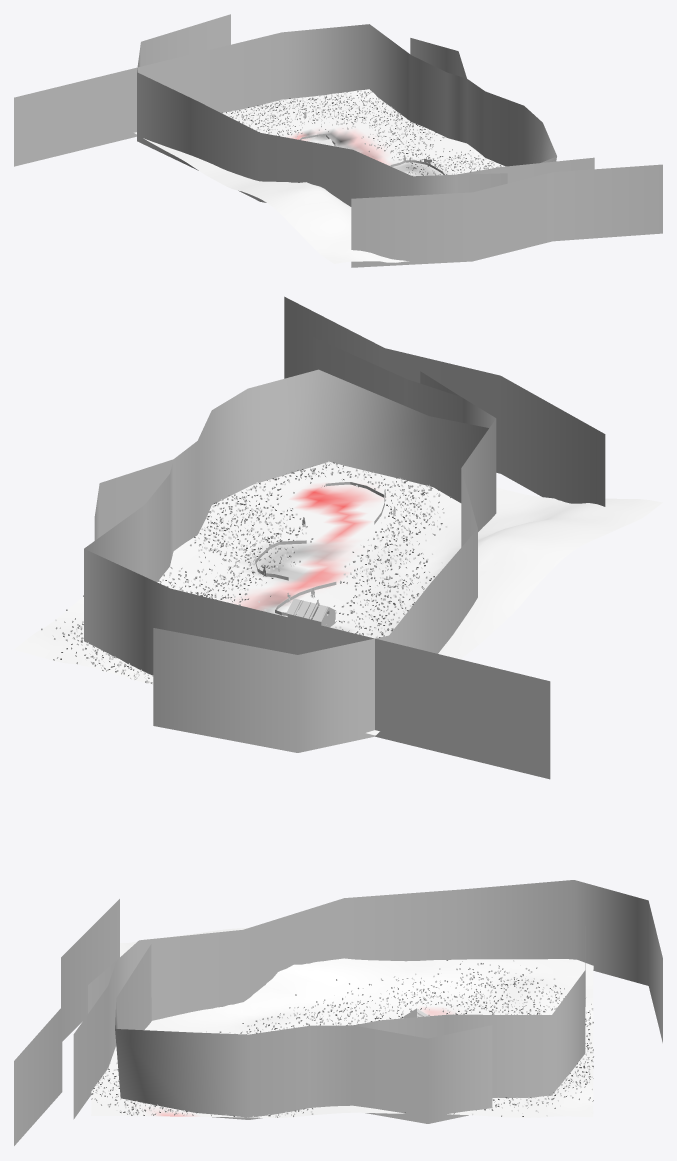
The model's file is srs_horseless_horse_world.glb.
The picture shows the model from 3 angles, top to bottom: view 1: azimuth 30°, elevation 25°; view 2: azimuth 150°, elevation 25°; view 3: azimuth 270°, elevation 25°; orthographic projection. The views are drawn at different scales.
Visible parts, largest first — view 1: treeline-detail, invis_floor-col.007; view 2: treeline-detail, invis_floor-col.007; view 3: treeline-detail, invis_floor-col.007.
Part boxes in pixels (x1,y1,x2,y2): treeline-detail: [14, 14, 662, 267]; invis_floor-col.007: [134, 89, 504, 263]; treeline-detail: [84, 296, 605, 779]; invis_floor-col.007: [14, 462, 662, 735]; treeline-detail: [14, 880, 662, 1145]; invis_floor-col.007: [91, 928, 593, 1117].
Size of what is drawn, in the model's own units: 376 by 75.74 by 408.
